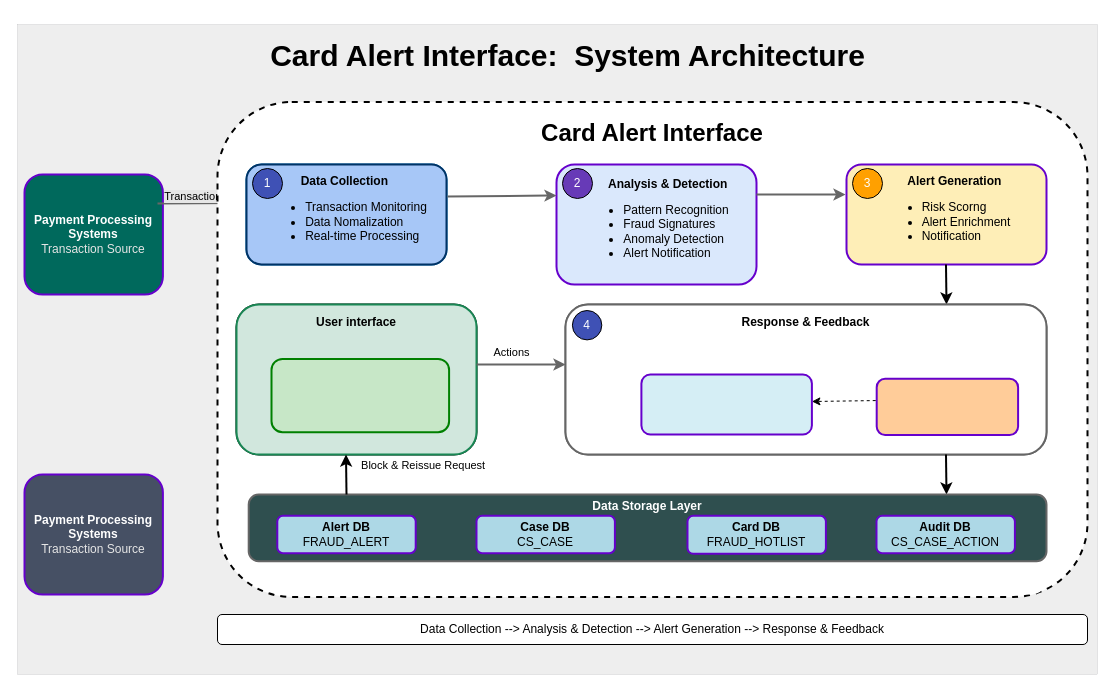
The diagram is 1114 pixels wide and 691 high, and some of its shapes have lost their labels. Here are the shapes that lost their labels. From the top down, the centre of each, then its label:
At (x=360, y=395): "Fraud Analyst Web interface Alert/Case Management".
At (x=726, y=404): "Case Management Investigaton Workflow".
At (x=947, y=406): "Card Actions Block & Reissue".
